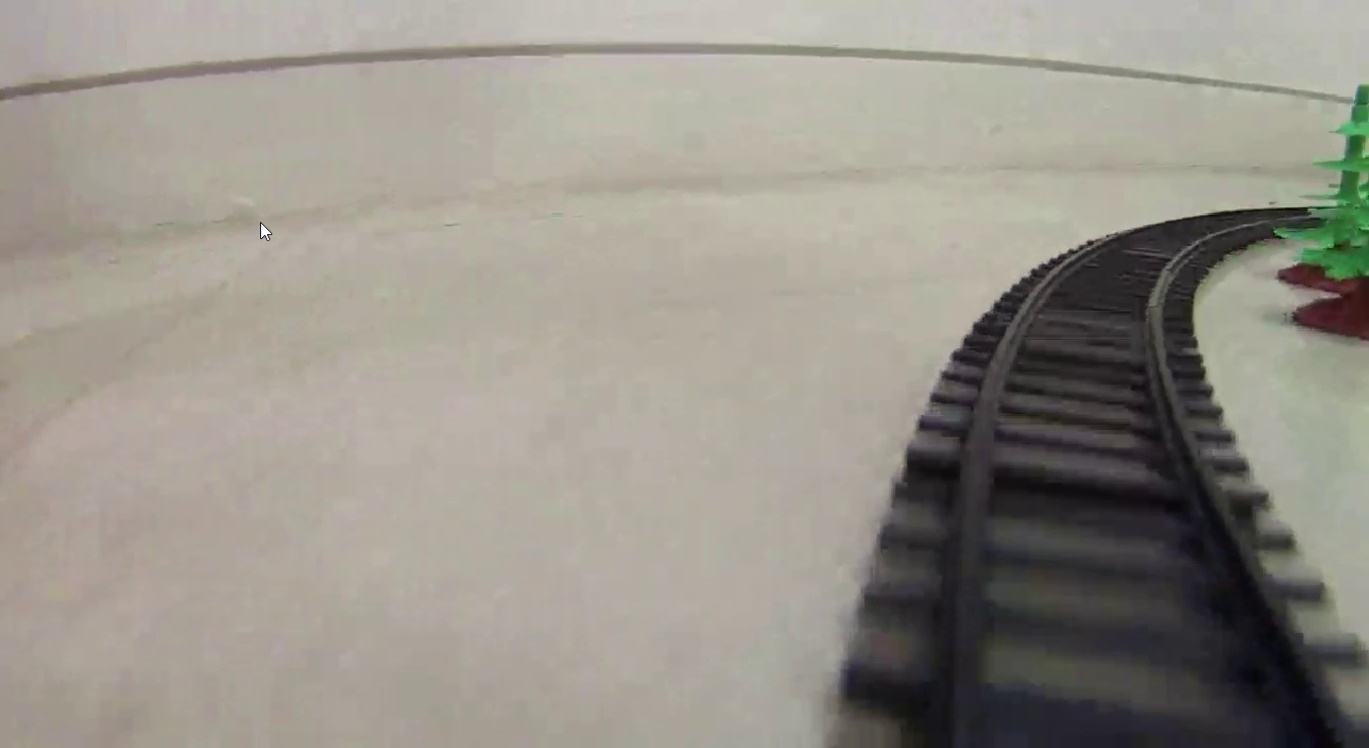tree: (1281, 86, 1369, 337)
